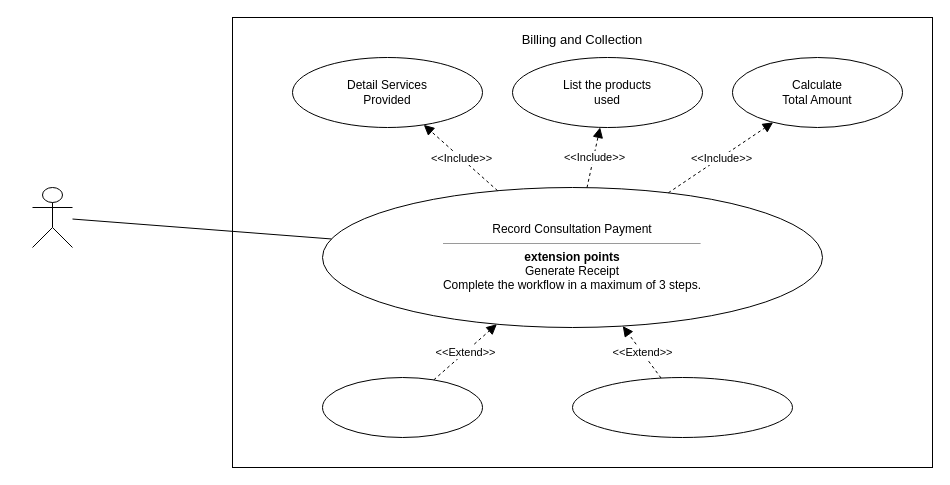
Image size: 950x485. Some labels were removed from this diagram. Each missing label, with the centre of its shape:
Administrator: (x=52, y=217)
Complete the workflow in a maximum of 3 steps.: (x=682, y=407)
Generate Receipt: (x=402, y=407)
